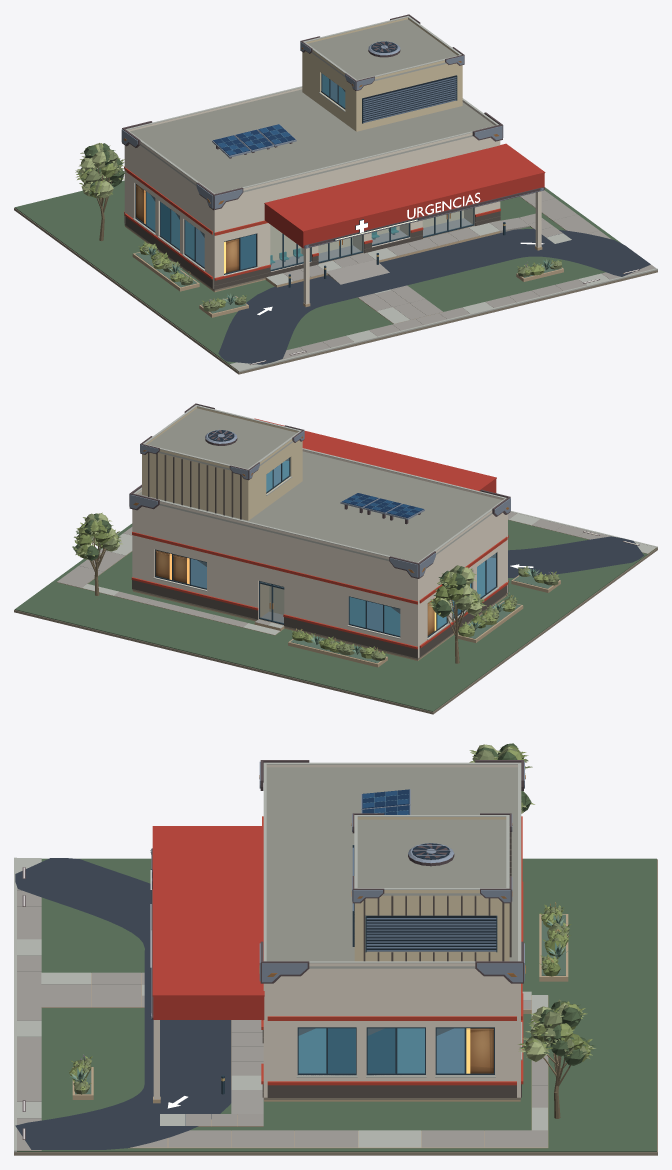
File: urgencias.fbx
3 renders of one model, top to bottom at view 1: azimuth 30°, elevation 25°; view 2: azimuth 150°, elevation 25°; view 3: azimuth 270°, elevation 25°, orthographic. The views are drawn at different scales.
Parts seen in each view (by area): view 1: Marquesinas, Parcela, Muros, Calzada, Senderos y explanadas, Marcos y lamas, Zócalo de protección y nervios, Cristales transparentes, Acristalamiento opaco, Cubiertas · esquineros y ventilación, Arbol 50, Piedra y bordillos (+6 smaller); view 2: Muros, Parcela, Marquesinas, Zócalo de protección y nervios, Senderos y explanadas, Calzada, Acristalamiento opaco, Cubiertas · esquineros y ventilación, Setos y herbaceas, Arbol 50, Arbol 51, Remates minerales (+6 smaller); view 3: Parcela, Marquesinas, Muros, Senderos y explanadas, Calzada, Zócalo de protección y nervios, Acristalamiento opaco, Marcos y lamas, Cubiertas · esquineros y ventilación, Arbol 51, Remates minerales, Setos y herbaceas (+5 smaller).
Part boxes in pixels (x1,y1,x2,y2): Marquesinas: (125, 15, 545, 248); Parcela: (14, 180, 657, 374); Muros: (124, 51, 500, 289); Calzada: (218, 228, 650, 364); Senderos y explanadas: (229, 190, 655, 370); Marcos y lamas: (135, 73, 474, 274); Zócalo de protección y nervios: (124, 166, 500, 289); Cristales transparentes: (270, 208, 473, 269); Acristalamiento opaco: (146, 74, 345, 269); Cubiertas · esquineros y ventilación: (121, 14, 503, 210); Arbol 50: (75, 143, 126, 241); Piedra y bordillos: (132, 252, 657, 372); Muros: (132, 440, 507, 657); Parcela: (14, 520, 657, 714); Marquesinas: (133, 405, 506, 562); Zócalo de protección y nervios: (131, 452, 508, 658); Senderos y explanadas: (57, 512, 656, 635); Calzada: (508, 536, 644, 577); Acristalamiento opaco: (191, 458, 495, 635); Cubiertas · esquineros y ventilación: (129, 403, 510, 578); Setos y herbaceas: (291, 566, 559, 660); Arbol 50: (428, 565, 486, 663); Arbol 51: (72, 512, 122, 595); Remates minerales: (132, 476, 507, 660); Parcela: (14, 858, 657, 1155); Marquesinas: (152, 762, 521, 1019); Muros: (263, 895, 520, 1097); Senderos y explanadas: (17, 858, 548, 1150); Calzada: (15, 858, 231, 1149); Zócalo de protección y nervios: (261, 816, 523, 1097); Acristalamiento opaco: (298, 1028, 494, 1073); Marcos y lamas: (297, 845, 497, 1075); Cubiertas · esquineros y ventilación: (259, 760, 525, 983); Arbol 51: (518, 999, 595, 1118); Remates minerales: (153, 1020, 522, 1103); Setos y herbaceas: (68, 902, 571, 1094).
Size of the model in its own units: 28 by 9.62 by 26.
51 materials, 1 textured.
